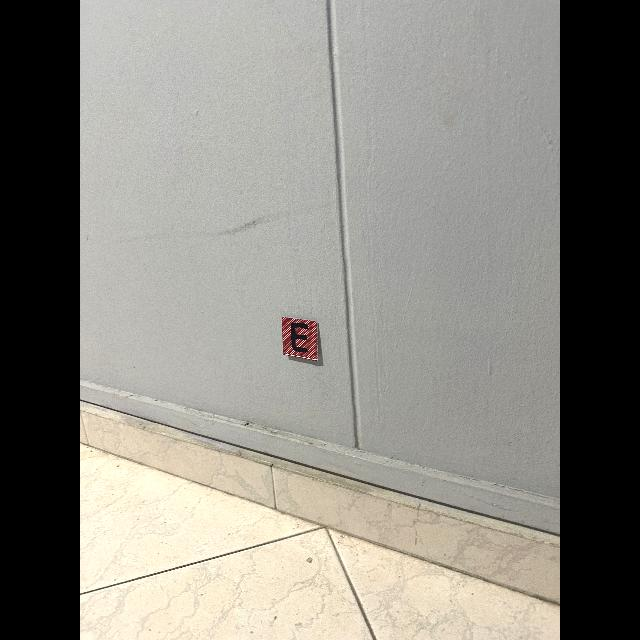E: (291, 323, 309, 352)
